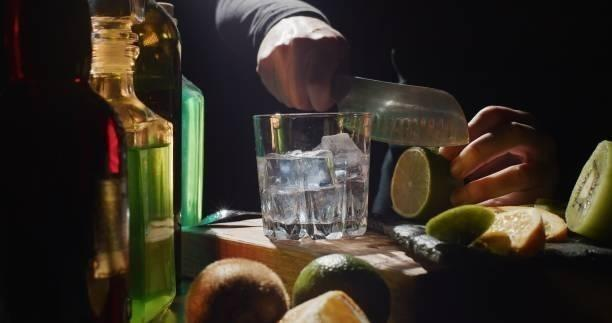glass-normal: (251, 110, 376, 243)
